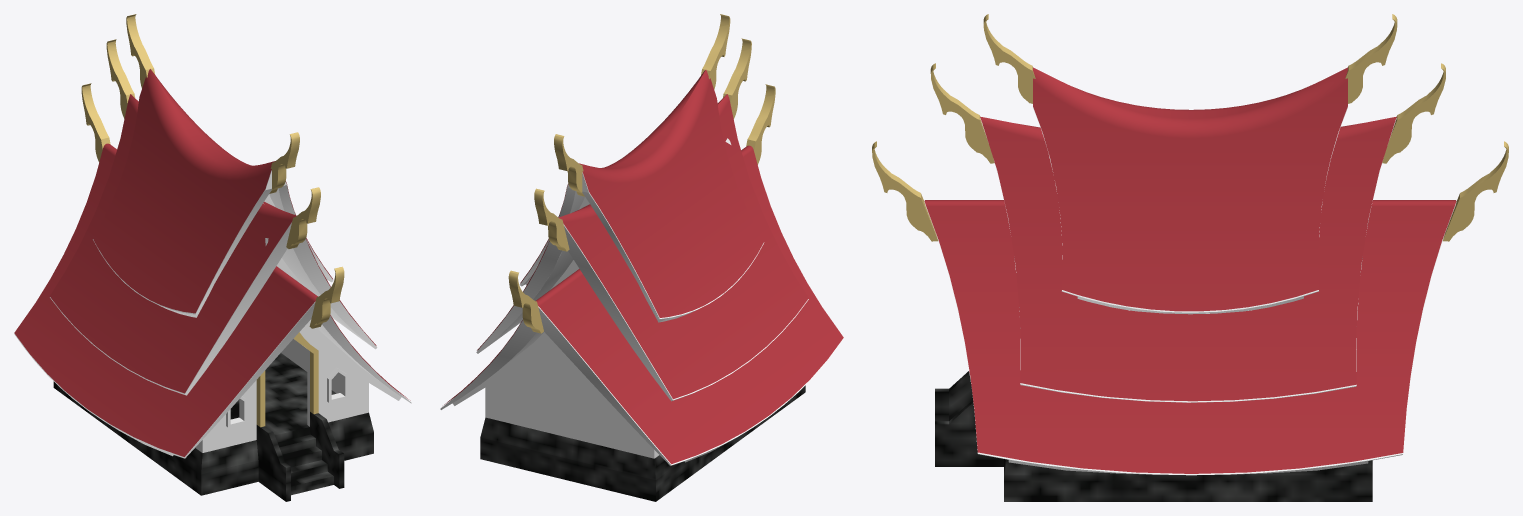
The model's file is cal002-1.glb.
3 views of the same model, side by side, from view 1: azimuth 30°, elevation 25°; view 2: azimuth 150°, elevation 25°; view 3: azimuth 270°, elevation 25° (orthographic). The views are drawn at different scales.
Visible parts, largest first — view 1: Part12[169], Part14[173], Part13[171], Part6[110], Part3[69], Part1[41], Part31[4], Part9[122], 2022_05_26_07431722[67], 2022_05_26_07431722[77], 2022_05_26_07431722[76], 2022_05_26_07431722[68] (+2 smaller); view 2: Part12[169], Part14[173], Part13[171], Part3[69], Part6[110], Part1[41], Part31[4], 2022_05_26_07431722[76], 2022_05_26_07431722[68], 2022_05_26_07431722[77], 2022_05_26_07431722[67], 2022_05_26_07431722[18] (+1 smaller); view 3: Part12[169], Part14[173], Part13[171], Part6[110], Part3[69], 2022_05_26_07431722[77], 2022_05_26_07431722[76], 2022_05_26_07431722[67], 2022_05_26_07431722[68], 2022_05_26_07431722[19], 2022_05_26_07431722[18], Part31[4] (+1 smaller).
Part boxes in pixels (x1,y1,x2,y2): Part12[169]: (93,69,332,313); Part14[173]: (14,143,410,456); Part13[171]: (50,94,376,393); Part6[110]: (53,353,373,501); Part3[69]: (14,301,411,458); Part1[41]: (50,203,377,395); Part31[4]: (93,170,333,317); Part9[122]: (256,332,318,427); 2022_05_26_07431722[67]: (286,187,320,248); 2022_05_26_07431722[77]: (309,266,344,328); 2022_05_26_07431722[76]: (81,83,110,162); 2022_05_26_07431722[68]: (106,39,135,118); Part12[169]: (520,70,764,317); Part14[173]: (444,145,843,464); Part13[171]: (477,94,808,399); Part3[69]: (440,306,843,465); Part6[110]: (480,385,805,501); Part1[41]: (476,138,808,401); Part31[4]: (520,172,764,322); 2022_05_26_07431722[76]: (508,270,543,333); 2022_05_26_07431722[68]: (534,188,569,251); 2022_05_26_07431722[77]: (746,84,775,164); 2022_05_26_07431722[67]: (723,38,751,119); 2022_05_26_07431722[18]: (554,134,584,196); Part12[169]: (1033,67,1347,311); Part14[173]: (924,200,1456,473); Part13[171]: (980,116,1396,401); Part6[110]: (935,371,1372,501); Part3[69]: (924,202,1456,475); 2022_05_26_07431722[77]: (872,141,938,241); 2022_05_26_07431722[76]: (1443,141,1508,241); 2022_05_26_07431722[67]: (930,63,994,163); 2022_05_26_07431722[68]: (1382,63,1445,163); 2022_05_26_07431722[19]: (983,14,1035,103); 2022_05_26_07431722[18]: (1345,14,1397,103); Part31[4]: (1033,107,1347,314).
Bounding box in the file's own units: 0.00517 × 0.00682 × 0.00909.
8 materials, 7 textured.
